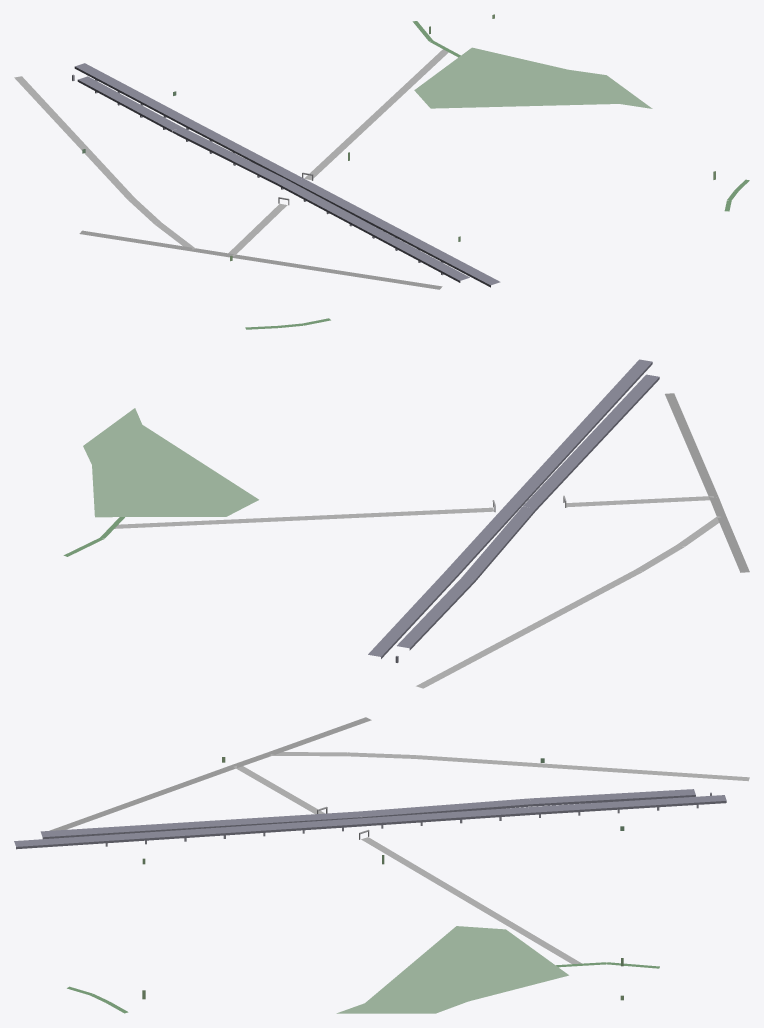
The picture shows the model from 3 angles, top to bottom: view 1: azimuth 30°, elevation 25°; view 2: azimuth 150°, elevation 25°; view 3: azimuth 270°, elevation 25°; orthographic projection. The views are drawn at different scales.
Size of the model in its own units: 526 by 8.63 by 554.
